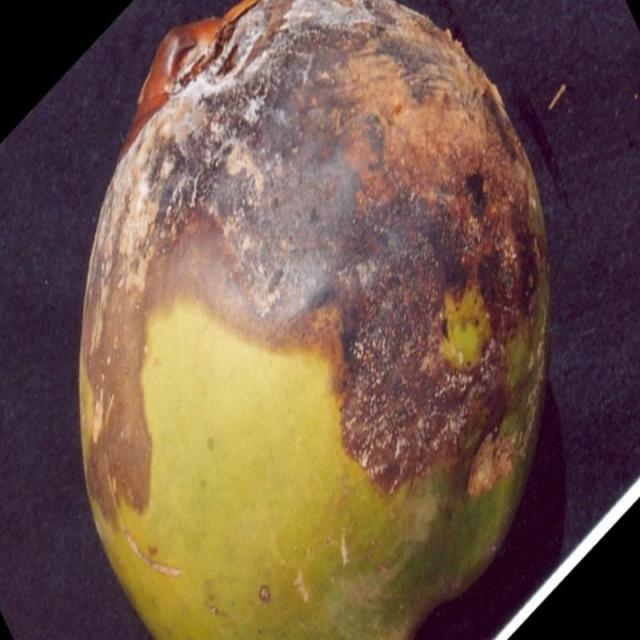damaged: (78, 0, 552, 639)
